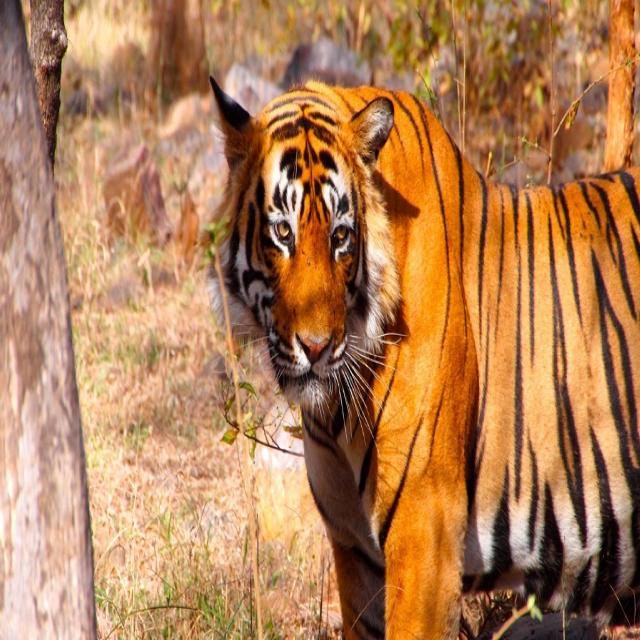Tiger: (202, 75, 640, 639)
